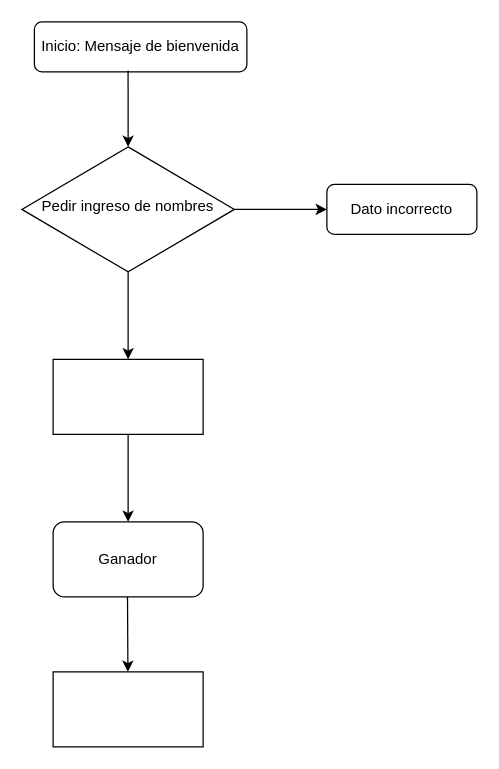
Some shapes in this 499 by 769 pixel diagram are drawn without their labels. The shapes that lost their labels are listed below. From the top down, each one's centre as x and y in pixels, then its label:
At point (127, 396): "Realizar Sorteo".
At point (127, 709): "Mensaje final de felicitaciones".
